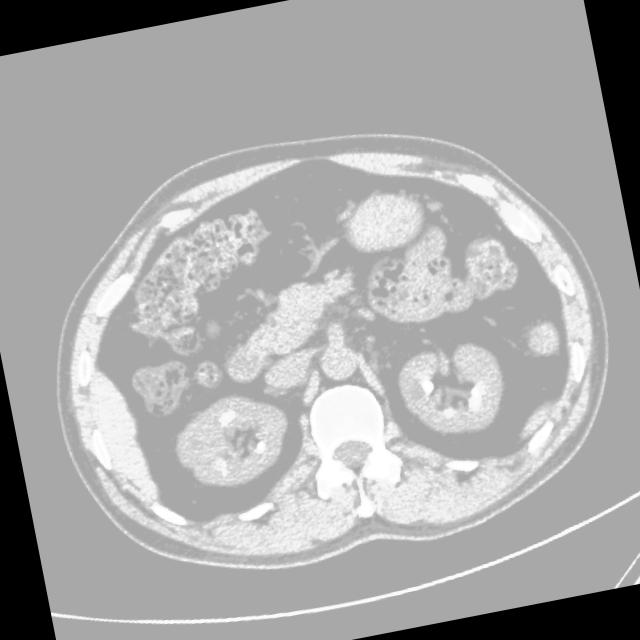STONE: (174, 315, 501, 513)
